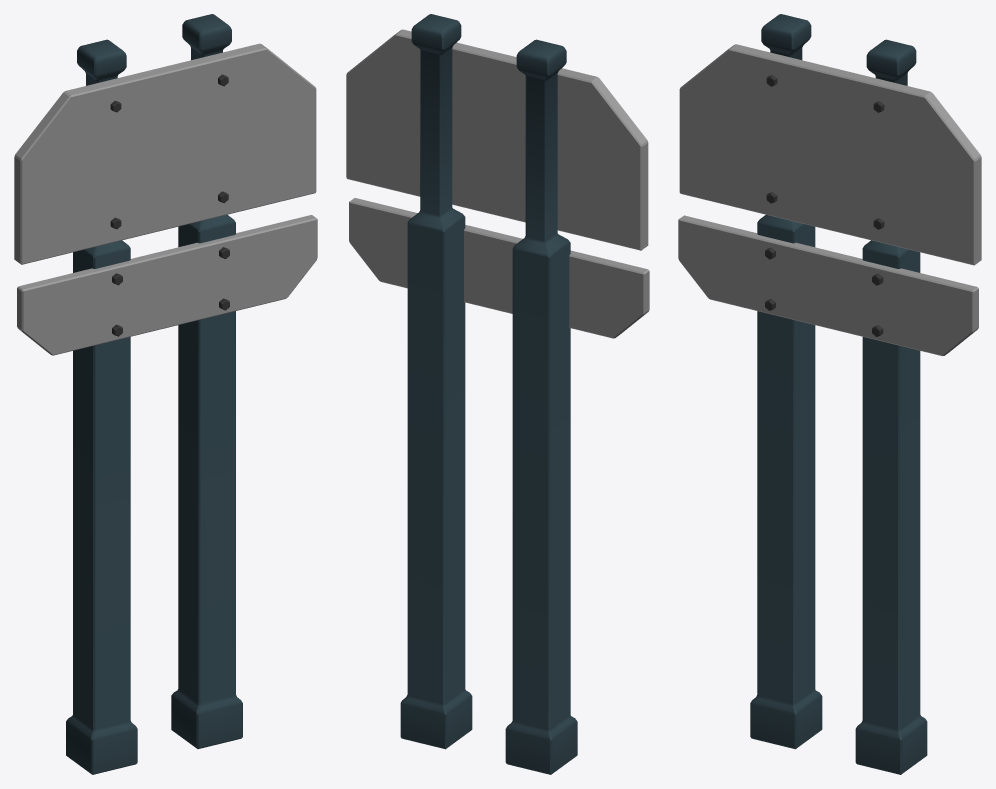
Rendered from props_76.glb.
The picture shows the model from 3 angles, left to right: view 1: azimuth 30°, elevation 25°; view 2: azimuth 150°, elevation 25°; view 3: azimuth 330°, elevation 25°; orthographic projection.
Parts seen in each view (by area): view 1: props_76; view 2: props_76; view 3: props_76.
Boxes of the visible parts, x1,y1,x2,y2 form: props_76: [14, 14, 317, 774]; props_76: [346, 14, 649, 774]; props_76: [678, 14, 981, 774].
Bounding box in the file's own units: 1.13 × 2.6 × 0.204.
Materials: 1 (1 with a texture image).
